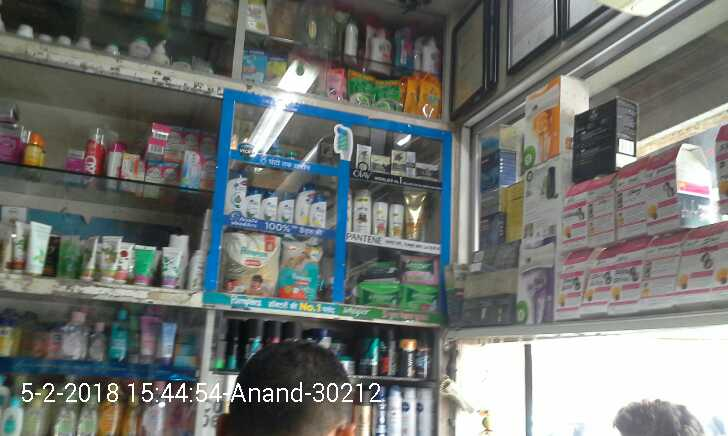beauty: (225, 164, 245, 221), (354, 185, 371, 234), (405, 196, 424, 239), (310, 190, 329, 227), (371, 196, 387, 237), (261, 185, 279, 220), (295, 180, 309, 225), (387, 200, 402, 238), (245, 186, 261, 220), (280, 190, 294, 226), (369, 153, 391, 174), (355, 146, 372, 170), (391, 150, 404, 174), (418, 163, 437, 179), (405, 152, 415, 177)
pharmacy: (224, 233, 278, 296), (278, 240, 328, 302), (354, 254, 402, 283), (398, 254, 440, 286)
